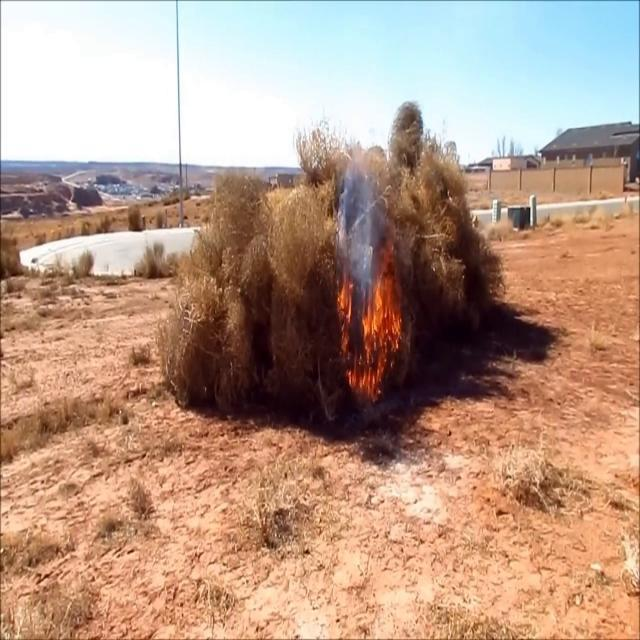Fire: (335, 249, 403, 403)
